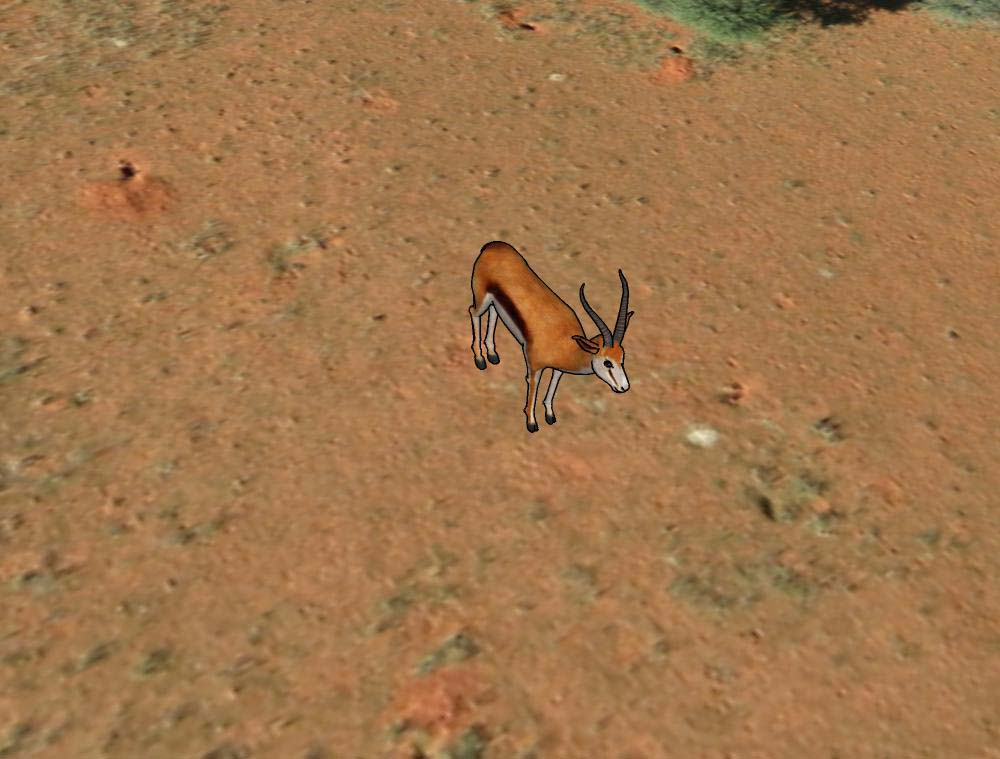springbok: (465, 234, 640, 436)
